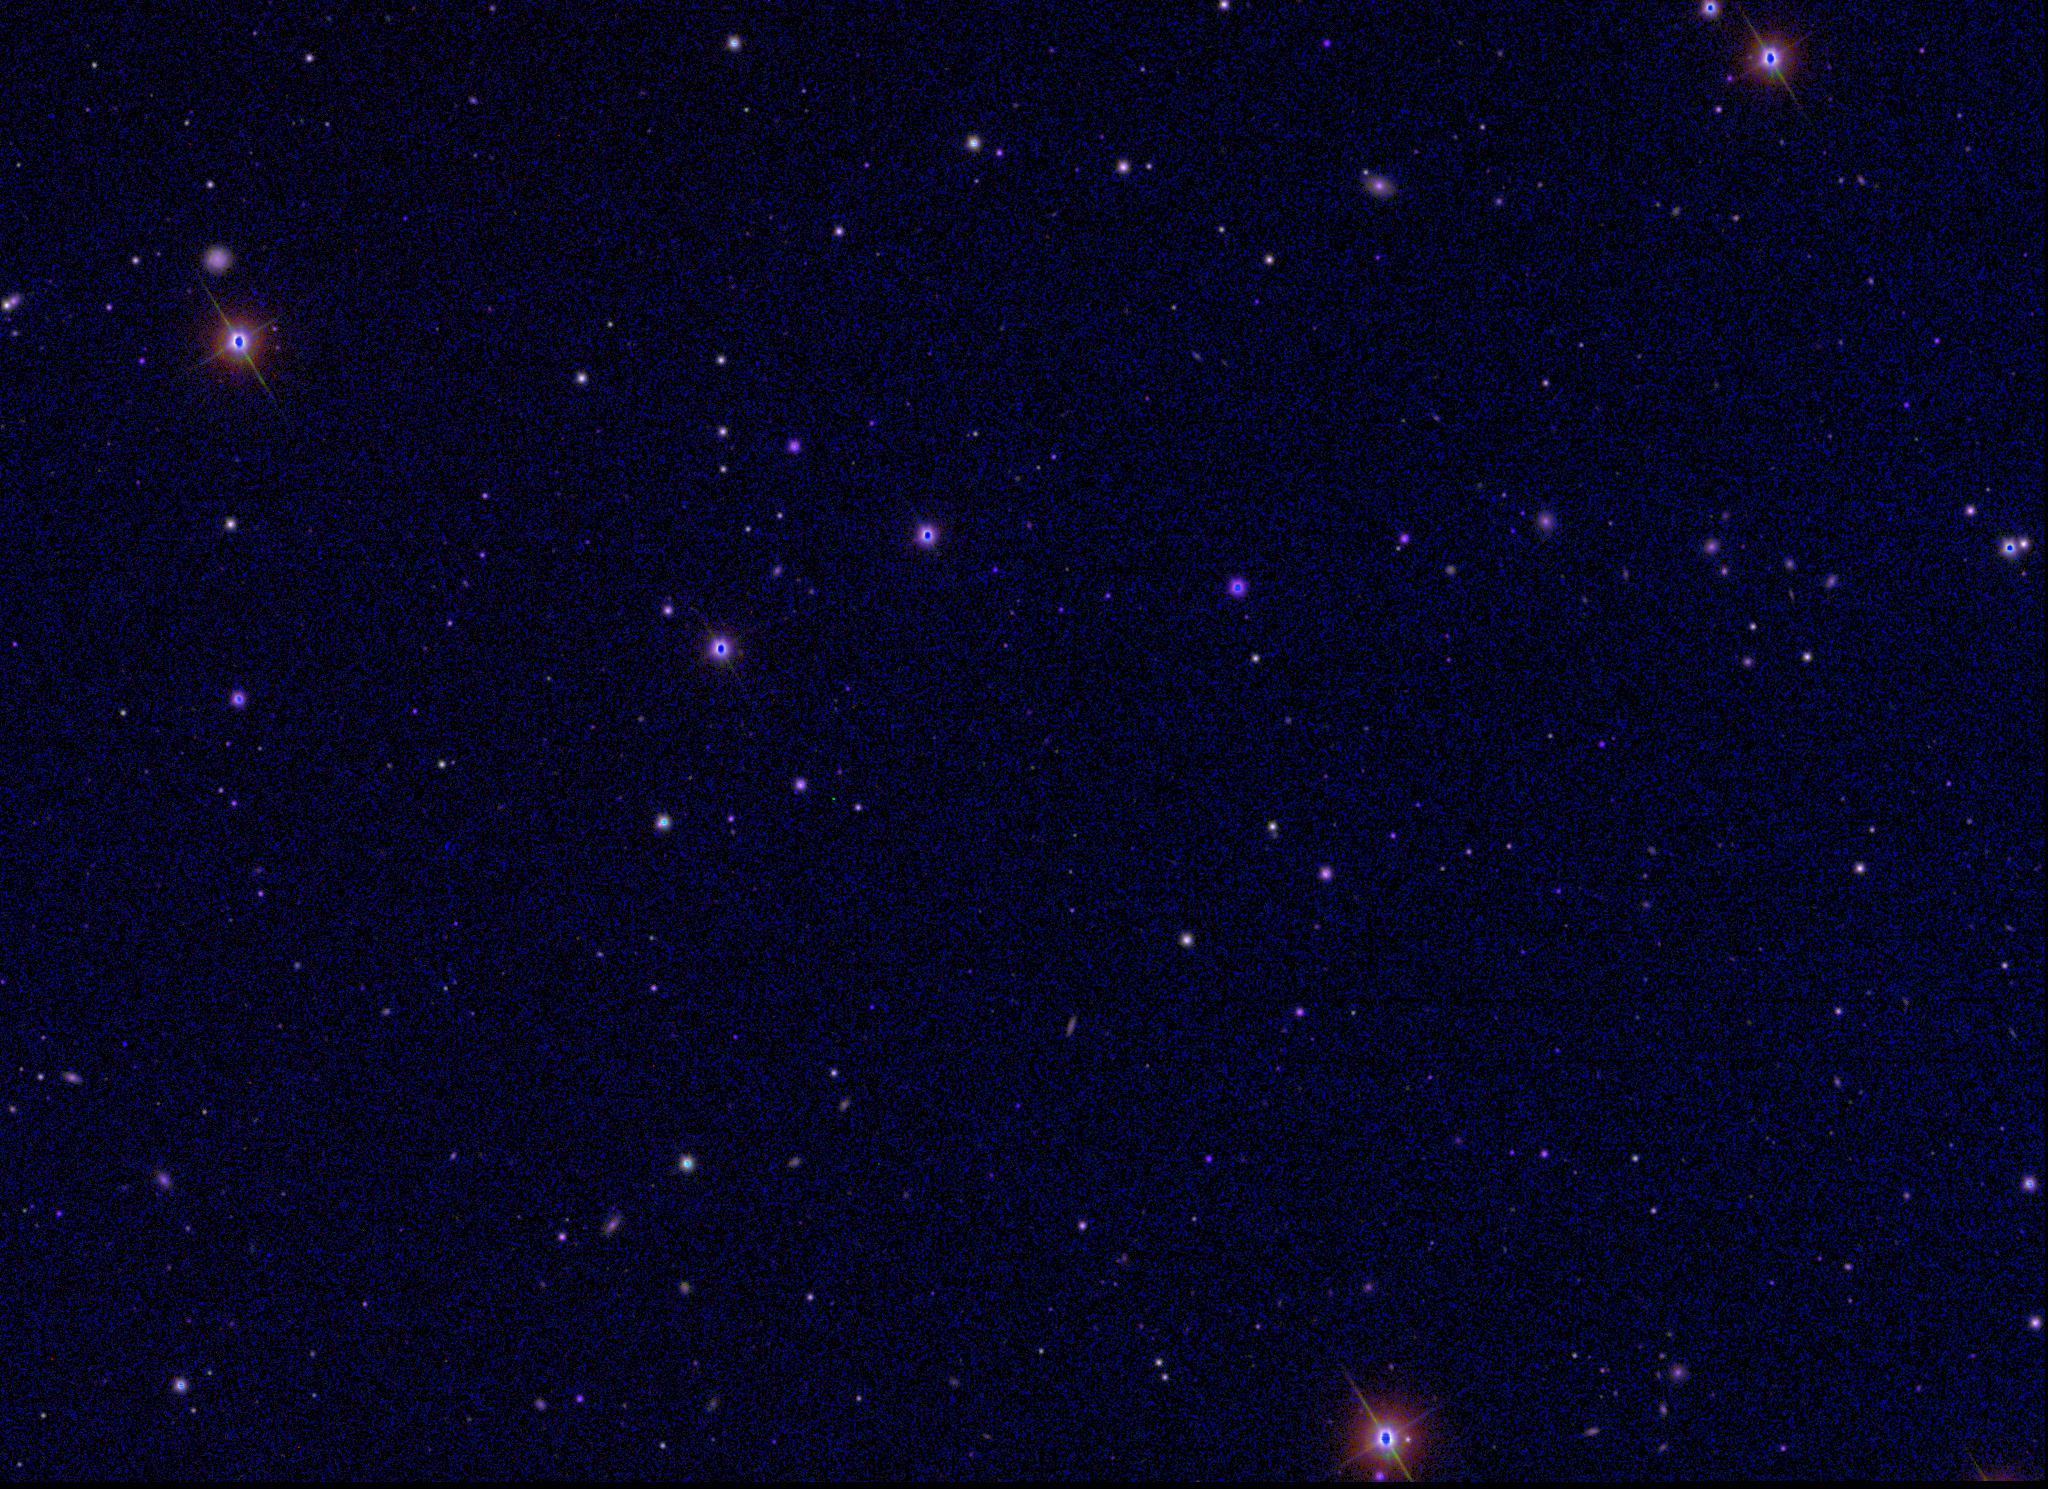L: (118, 1037, 132, 1052)
